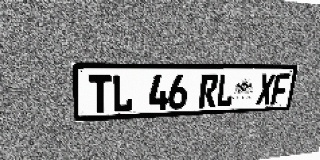4: (148, 74, 169, 111)
6: (168, 74, 189, 110)
F: (270, 74, 290, 104)
L: (112, 74, 133, 112), (215, 74, 236, 107)
R: (198, 74, 219, 108)
T: (88, 75, 111, 114)
X: (256, 74, 276, 105)
